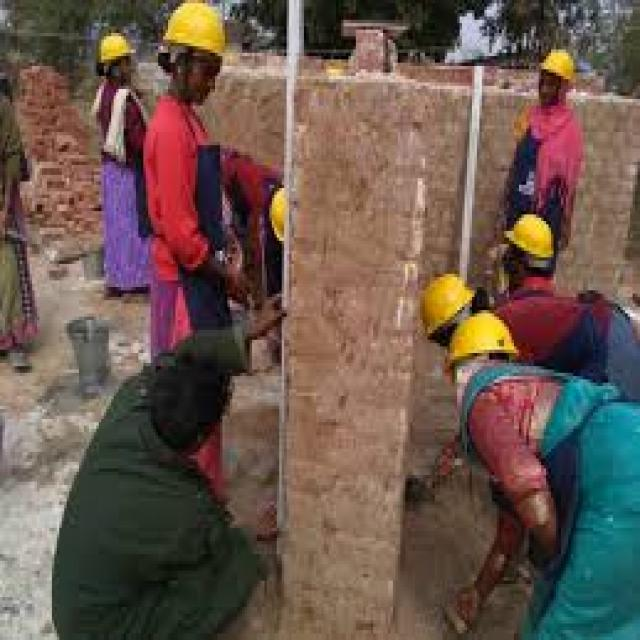Reflective-Jacket: (445, 353, 640, 567), (440, 287, 637, 393), (138, 89, 232, 290), (507, 99, 593, 224), (89, 76, 148, 171)
Safety-Helmet: (405, 258, 482, 346), (156, 0, 237, 73), (494, 204, 568, 280), (262, 178, 304, 248), (531, 40, 583, 92), (89, 23, 138, 76)
